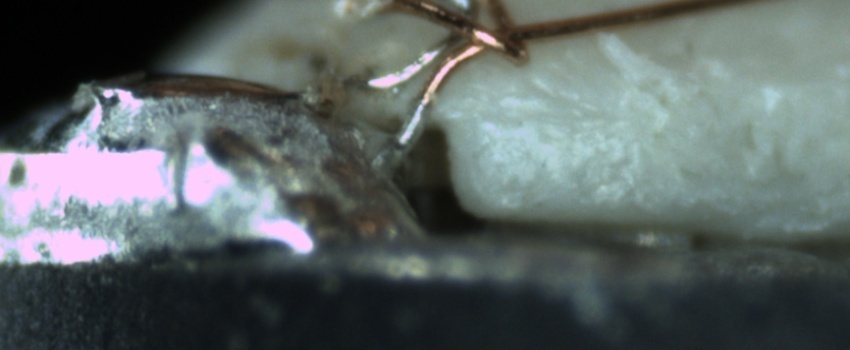CL: (437, 7, 524, 63)
DL: (473, 88, 646, 149)
TS: (372, 103, 431, 175)
